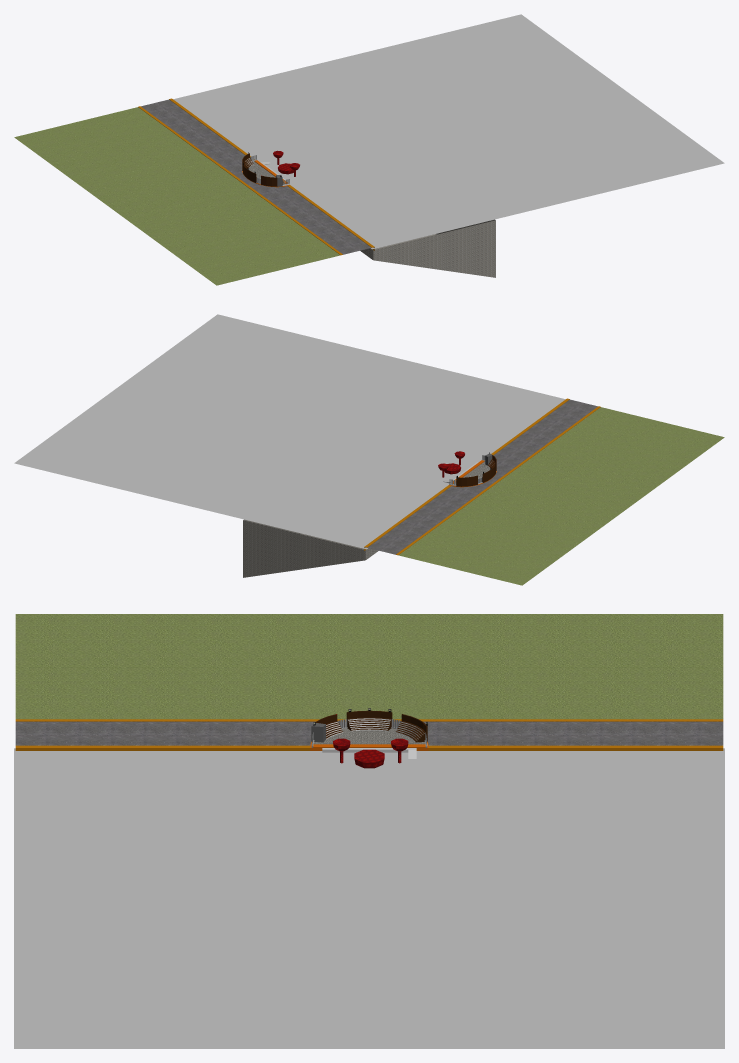
File: ScenarioV1.fbx
3 views of the same model, one above another, from view 1: azimuth 30°, elevation 25°; view 2: azimuth 150°, elevation 25°; view 3: azimuth 270°, elevation 25° (orthographic). The views are drawn at different scales.
Parts seen in each view (by area): view 1: mar, TerrenoNoOcupado, calle, FondoLago, BardasCalles; view 2: mar, TerrenoNoOcupado, calle, FondoLago, BardasCalles; view 3: mar, TerrenoNoOcupado, calle, BardasCalles, BaseAuditorio, GradaCentral.
Part boxes in pixels (box(x1,y1,x2,y2)): mar: box(173, 14, 724, 249); TerrenoNoOcupado: box(14, 107, 340, 285); calle: box(141, 99, 371, 254); FondoLago: box(360, 219, 495, 277); BardasCalles: box(138, 98, 374, 255); mar: box(14, 314, 565, 549); TerrenoNoOcupado: box(398, 407, 724, 585); calle: box(364, 399, 597, 554); FondoLago: box(243, 519, 378, 577); BardasCalles: box(364, 398, 600, 555); mar: box(14, 748, 724, 1048); TerrenoNoOcupado: box(15, 614, 723, 719); calle: box(15, 721, 723, 745); BardasCalles: box(15, 719, 723, 750); BaseAuditorio: box(314, 728, 424, 744); GradaCentral: box(346, 710, 392, 731).
Size of the model in its own units: 2003 by 274 by 1391.
